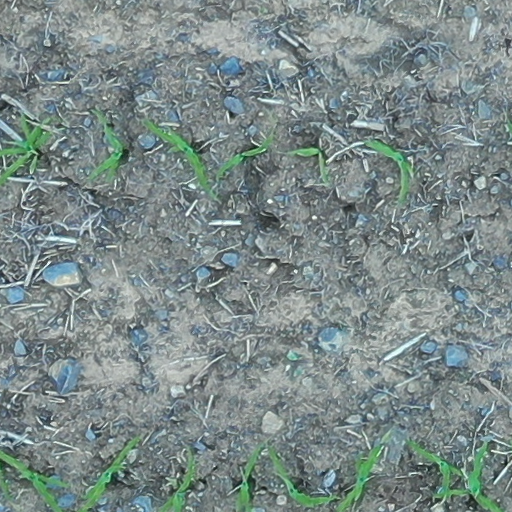planta: (145, 121, 211, 192), (267, 447, 339, 506), (408, 440, 462, 498), (365, 139, 412, 203), (90, 111, 122, 181), (218, 139, 270, 174), (291, 147, 327, 181)
